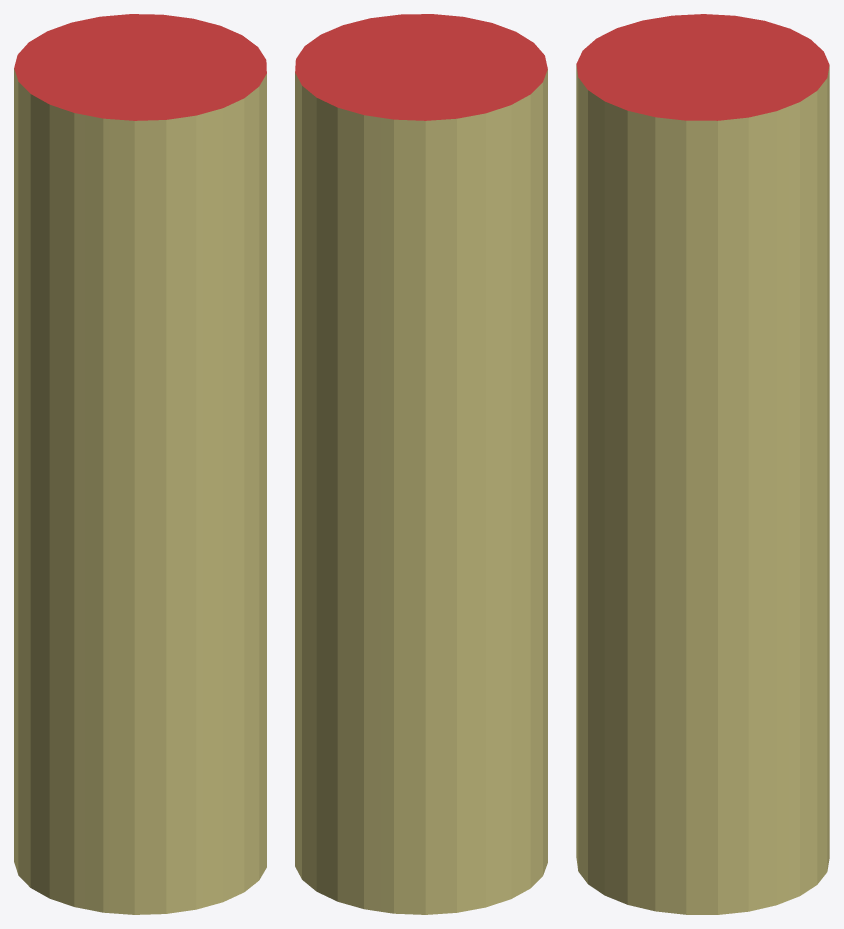
The picture shows the model from 3 angles, left to right: view 1: azimuth 30°, elevation 25°; view 2: azimuth 150°, elevation 25°; view 3: azimuth 270°, elevation 25°; orthographic projection.
Bounding box in the file's own units: 2.79 × 2.79 × 9.65.
